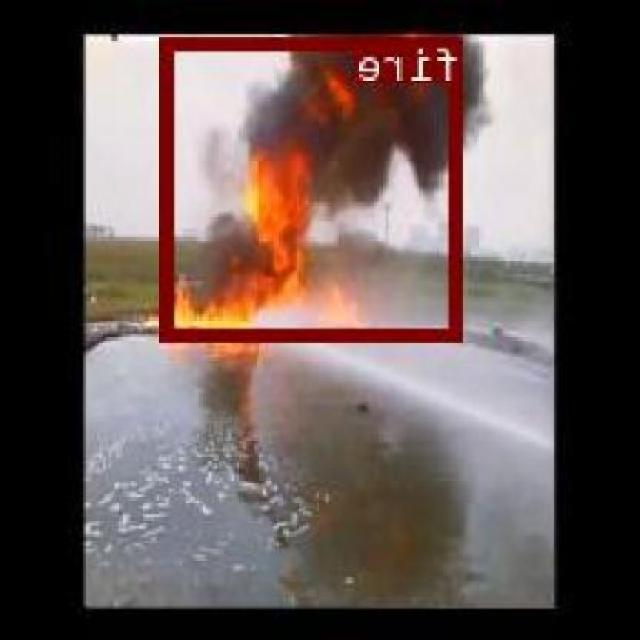Fire: (163, 35, 463, 338)
